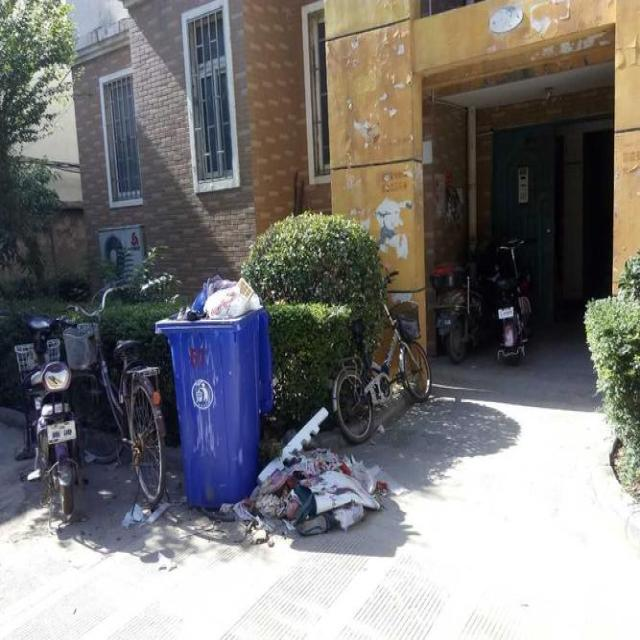garbage: (218, 406, 386, 546)
overflow: (152, 273, 272, 507)
